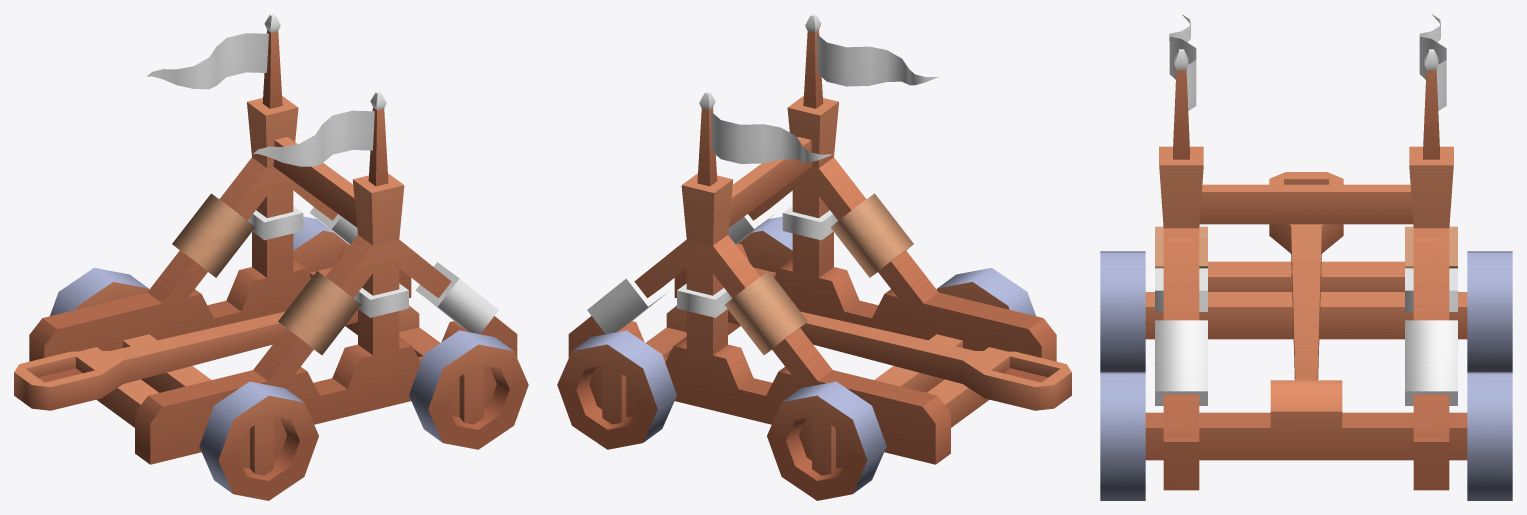
File: unit_siege.glb
3 views of the same model, side by side, from view 1: azimuth 30°, elevation 25°; view 2: azimuth 150°, elevation 25°; view 3: azimuth 270°, elevation 25° (orthographic). The views are drawn at different scales.
Visible parts, largest first — view 1: siege-catapult, wheel (×4), catapult; view 2: siege-catapult, wheel (×4), catapult; view 3: siege-catapult, wheel (×4), catapult.
Part boxes in pixels (bbox=[...]): siege-catapult: bbox=[29, 14, 517, 464]; wheel (×4): bbox=[50, 216, 528, 500]; catapult: bbox=[14, 309, 357, 410]; siege-catapult: bbox=[568, 14, 1056, 464]; wheel (×4): bbox=[557, 216, 1035, 500]; catapult: bbox=[728, 309, 1071, 410]; siege-catapult: bbox=[1145, 14, 1467, 490]; wheel (×4): bbox=[1100, 251, 1512, 500]; catapult: bbox=[1269, 172, 1343, 380].
Size of the model in its own units: 1.73 by 1.33 by 1.21.
Materials: 2 (2 with a texture image).
